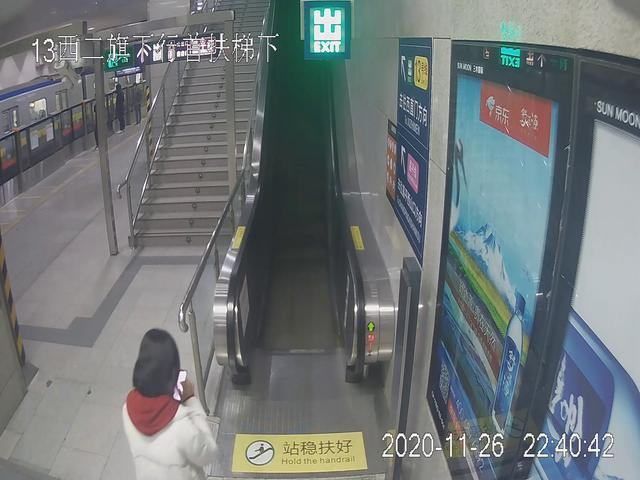person: (118, 326, 223, 480), (112, 80, 129, 132)
